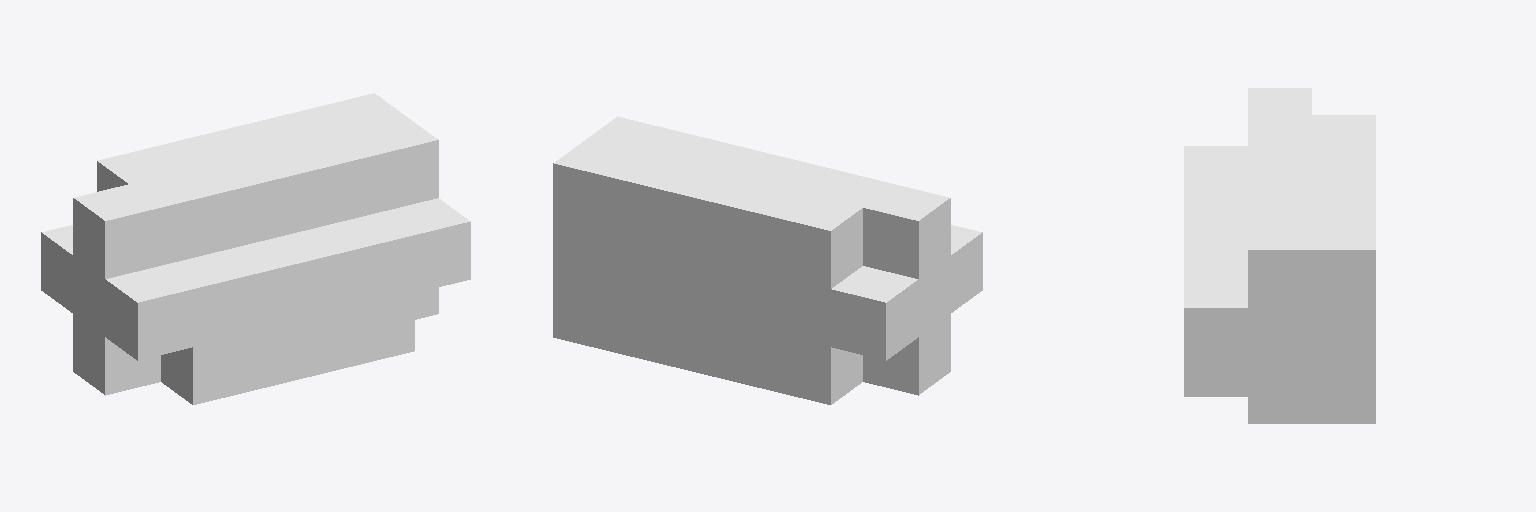
Rendered from der-2.obj.
3 views of the same model, side by side, from view 1: azimuth 30°, elevation 25°; view 2: azimuth 150°, elevation 25°; view 3: azimuth 270°, elevation 25° (orthographic).
Parts seen in each view (by area): view 1: object 1; view 2: object 1; view 3: object 1.
Part boxes in pixels (bbox=[...]): object 1: bbox=[41, 93, 470, 404]; object 1: bbox=[553, 116, 982, 404]; object 1: bbox=[1184, 88, 1375, 423].
Size of the model in its own units: 0.6 by 0.3 by 0.3.